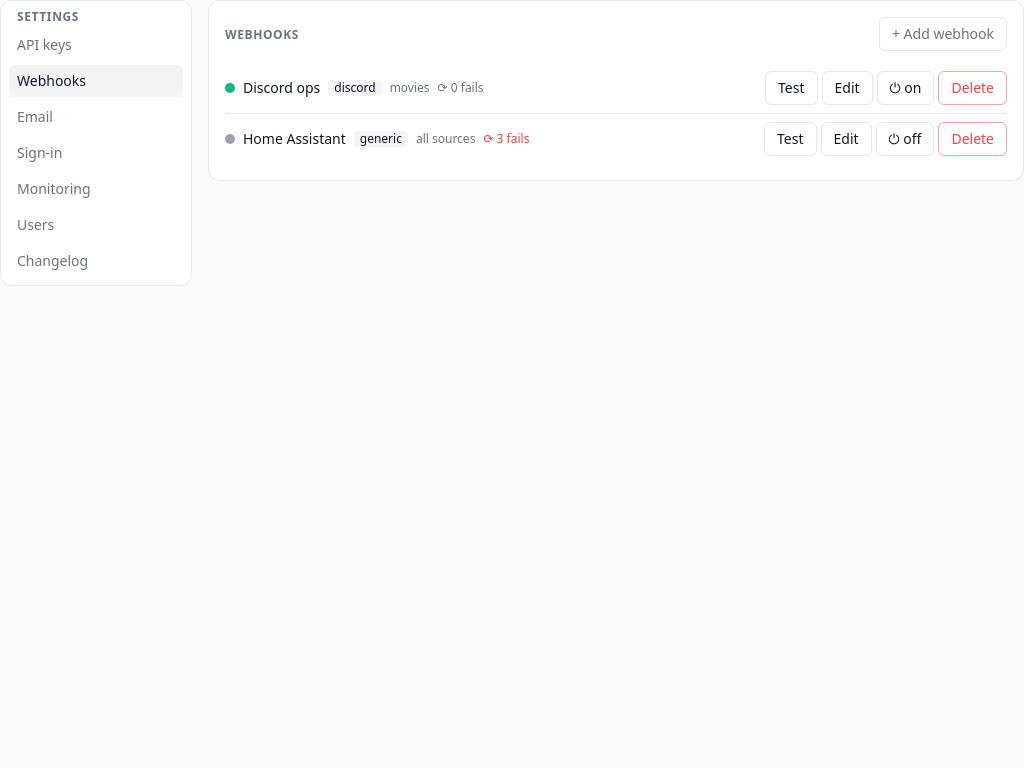
it: Webhooks (AC-013) › lists webhooks, tests one, and toggles enabled
Check: the number of list items with test id "webhook-row" is 2, box [225, 63, 1007, 114]; [225, 114, 1007, 164]
Check: the list item with test id "webhook-row" shows "3 fails", box [225, 114, 1007, 164]
Click the button "Test" in the row of "movies".
click(791, 88)  # box [765, 71, 818, 105]
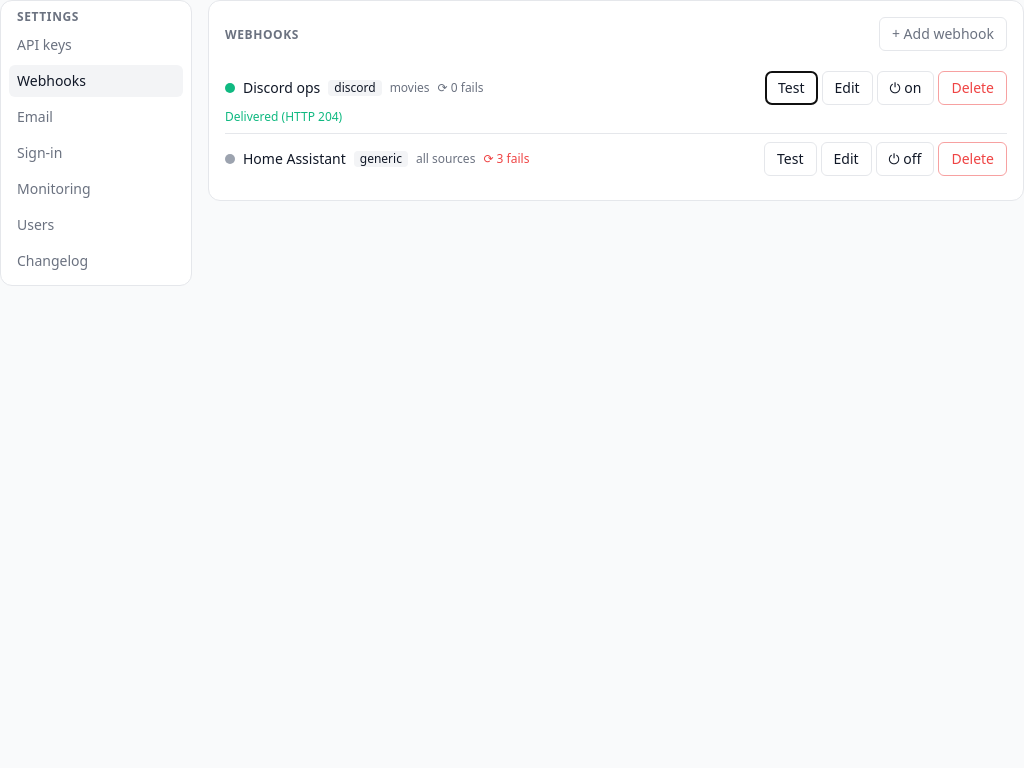
Check: the message reads "Delivered (HTTP 204)", box [225, 108, 342, 125]
Click the button "⏻ off".
click(905, 159)  # box [876, 142, 934, 176]
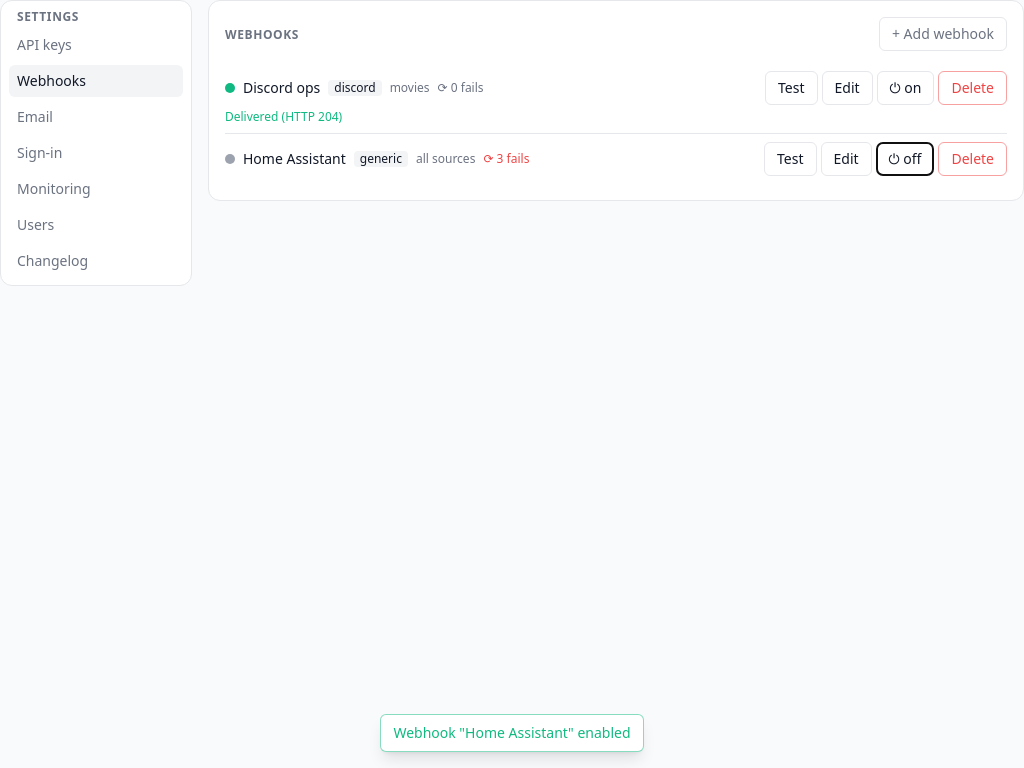
Check: the message with test id "toast" shows "enabled", box [393, 723, 631, 742]
